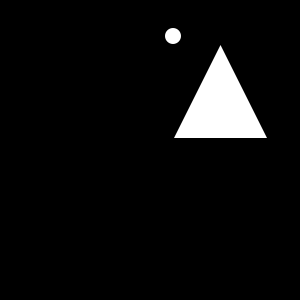rectangle: (165, 28, 181, 44)
triangle: (174, 45, 267, 138)
